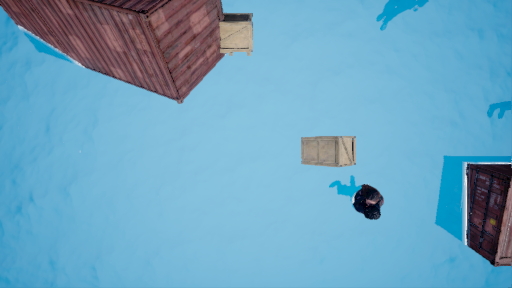person: (334, 176, 385, 229)
